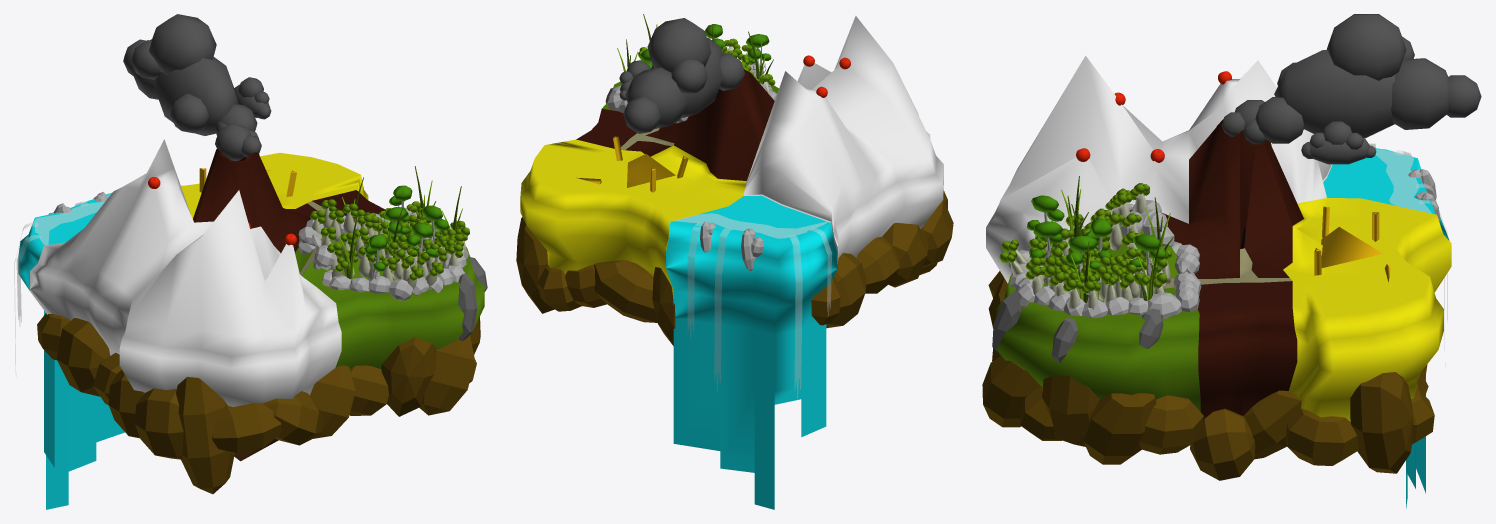
File: Island(v2).fbx
3 renders of one model, left to right at view 1: azimuth 30°, elevation 25°; view 2: azimuth 150°, elevation 25°; view 3: azimuth 270°, elevation 25°, orthographic. The views are drawn at different scales.
Visible parts, largest first — view 1: pSphere84; view 2: pSphere84; view 3: pSphere84.
Part boxes in pixels (left/top/right/bottom): pSphere84: left=14, top=14, right=487, bottom=509; pSphere84: left=516, top=14, right=953, bottom=509; pSphere84: left=982, top=14, right=1481, bottom=508.
Bounding box in the file's own units: 66.08 × 84.99 × 69.99.
